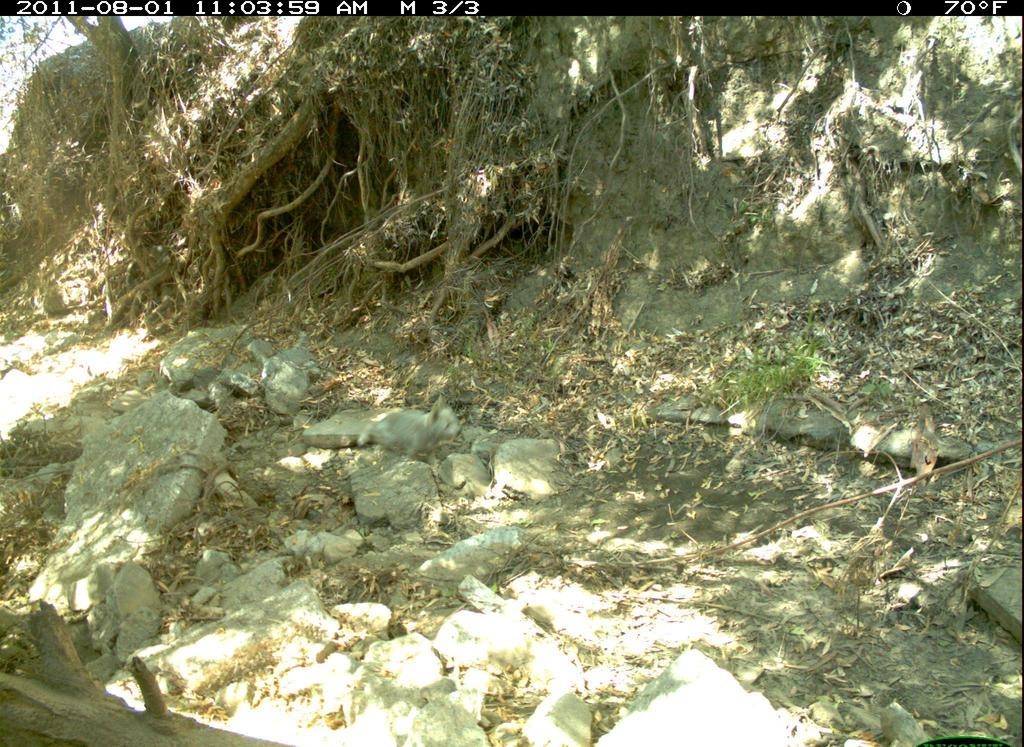dog: (351, 392, 472, 478)
